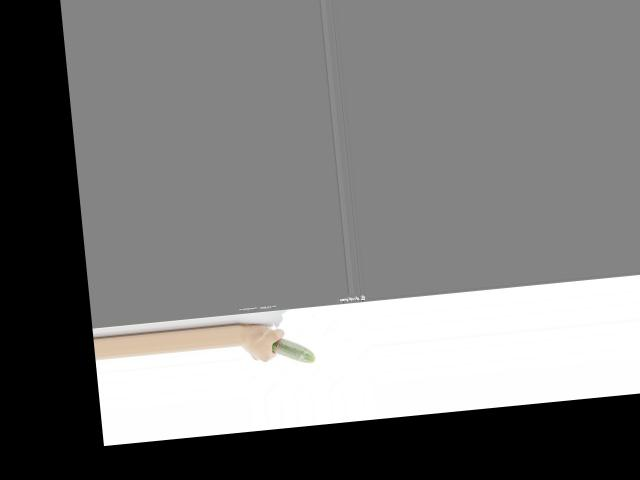cucumber: (270, 335, 315, 366)
